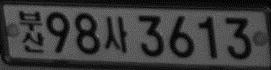1: (196, 15, 222, 58)
3: (137, 14, 165, 57), (224, 17, 252, 59)
6: (168, 15, 194, 59)
8: (73, 12, 100, 54)
9: (45, 11, 70, 53)
부산_V: (18, 10, 45, 53)
사: (103, 16, 128, 53)
